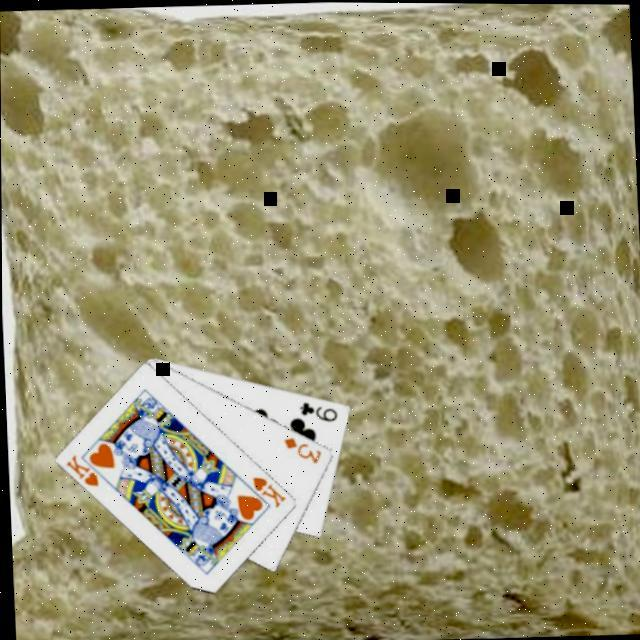3D: (279, 431, 323, 465)
9C: (294, 396, 339, 424)
KH: (248, 470, 287, 510), (61, 450, 100, 489)
